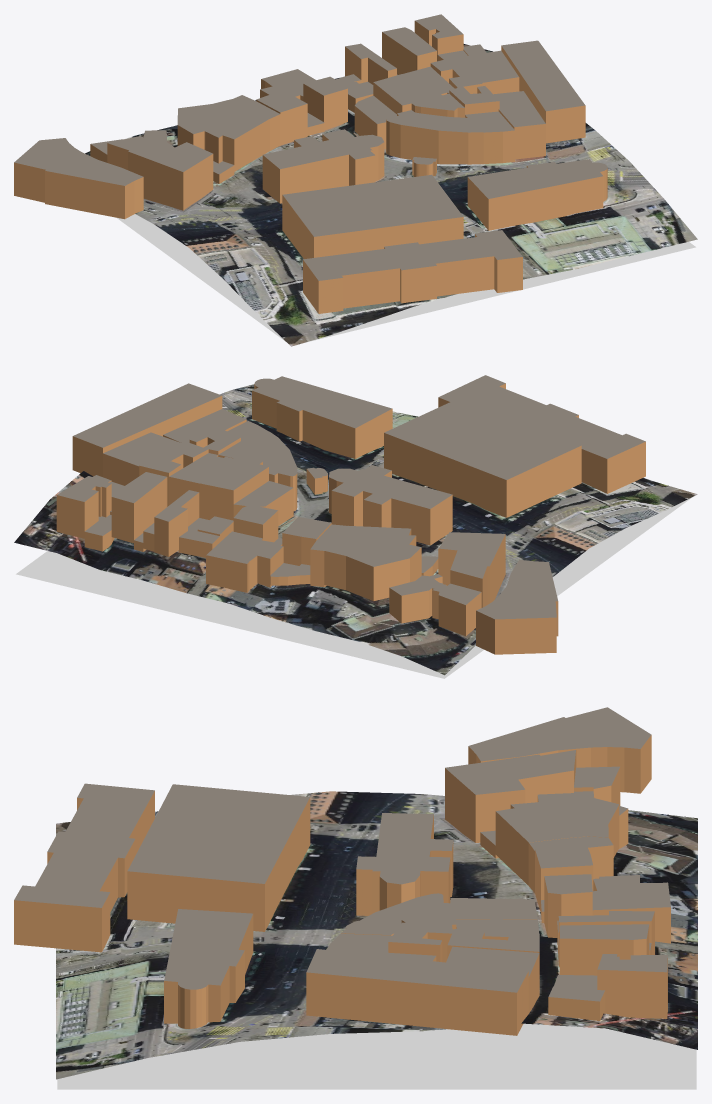
The model's file is saint_francois.glb.
The picture shows the model from 3 angles, top to bottom: view 1: azimuth 30°, elevation 25°; view 2: azimuth 150°, elevation 25°; view 3: azimuth 270°, elevation 25°; orthographic projection. The views are drawn at different scales.
Parts seen in each view (by area): view 1: map_2.osm_buildings, Terrain, Terrain_envelope; view 2: map_2.osm_buildings, Terrain, Terrain_envelope; view 3: map_2.osm_buildings, Terrain, Terrain_envelope.
Part boxes in pixels (box(x1,y1,x2,y2)): map_2.osm_buildings: box(14, 14, 607, 313); Terrain: box(85, 44, 697, 346); Terrain_envelope: box(116, 214, 695, 342); map_2.osm_buildings: box(56, 375, 645, 654); Terrain: box(14, 384, 697, 675); Terrain_envelope: box(16, 497, 692, 678); map_2.osm_buildings: box(14, 707, 670, 1035); Terrain: box(56, 791, 697, 1079); Terrain_envelope: box(57, 1023, 696, 1089).
Bounding box in the file's own units: 257 × 39.21 × 231.
Materials: 3 (1 with a texture image).
